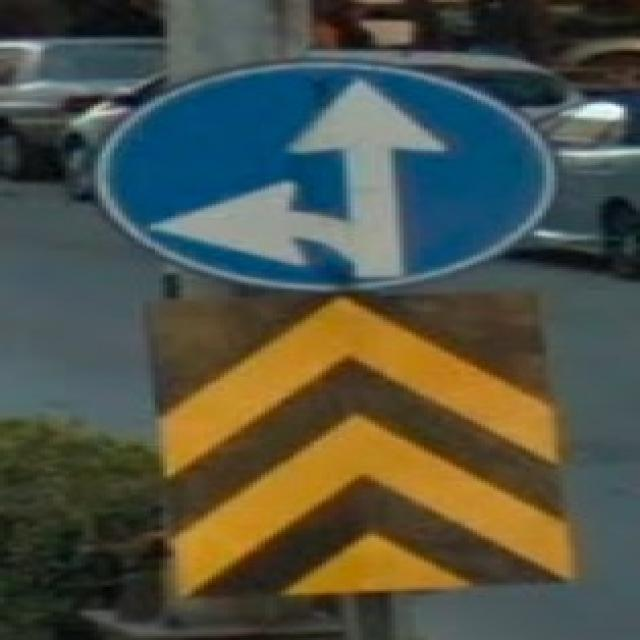Straight or Left: (87, 61, 556, 292)
